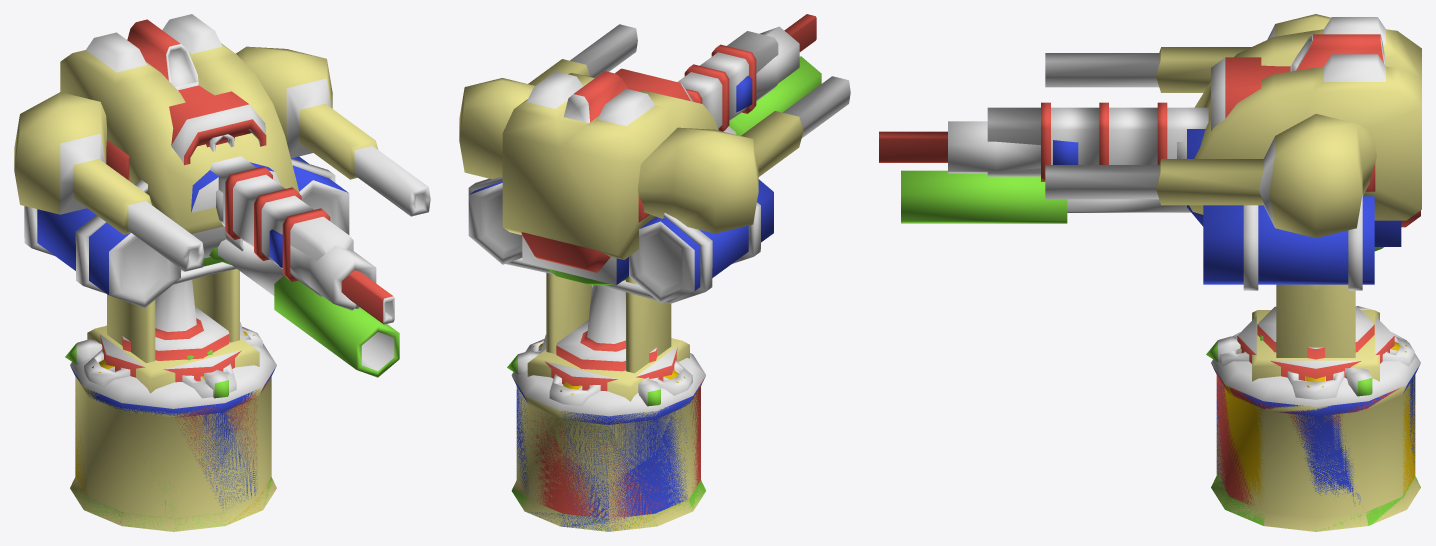
Rendered from GUNS.fbx.
The picture shows the model from 3 angles, left to right: view 1: azimuth 30°, elevation 25°; view 2: azimuth 150°, elevation 25°; view 3: azimuth 270°, elevation 25°; orthographic projection. The views are drawn at different scales.
Visible parts, largest first — view 1: GUN3, platform.003, GUN5, GUN1, GUN2, GUN5.001, platform.001, platform.002, GUN1.001, platform, GUN2.001, platform.004; view 2: GUN3, platform.003, GUN1, platform.001, GUN5, GUN5.001, platform, platform.002, GUN2, GUN1.001, GUN2.001; view 3: GUN3, platform.003, GUN5, GUN1, GUN2, platform.001, platform.002, platform.004, GUN5.001, platform, GUN1.001, GUN2.001.
Boxes of the visible parts, x1,y1,x2,y2 form: GUN3: (14, 14, 430, 393); platform.003: (70, 343, 276, 531); GUN5: (106, 19, 394, 324); GUN1: (24, 134, 376, 310); GUN2: (202, 239, 399, 377); GUN5.001: (100, 279, 246, 382); platform.001: (70, 366, 276, 510); platform.002: (70, 345, 272, 530); GUN1.001: (84, 326, 262, 398); platform: (72, 375, 271, 523); GUN2.001: (65, 339, 228, 398); platform.004: (72, 385, 269, 525); GUN3: (459, 24, 850, 401); platform.003: (513, 358, 702, 531); GUN1: (468, 26, 799, 303); platform.001: (512, 377, 703, 531); GUN5: (521, 14, 816, 272); GUN5.001: (540, 285, 677, 391); platform: (530, 378, 704, 530); platform.002: (511, 353, 705, 531); GUN2: (546, 56, 821, 285); GUN1.001: (525, 339, 692, 406); GUN2.001: (507, 350, 660, 406); GUN3: (1045, 14, 1421, 381); platform.003: (1212, 376, 1420, 531); GUN5: (879, 34, 1420, 227); GUN1: (948, 121, 1401, 290); GUN2: (901, 170, 1383, 251); platform.001: (1212, 365, 1419, 505); platform.002: (1211, 332, 1420, 531); platform.004: (1222, 380, 1419, 505); GUN5.001: (1237, 306, 1394, 380); platform: (1213, 368, 1413, 505); GUN1.001: (1220, 336, 1414, 399); GUN2.001: (1206, 306, 1372, 396).
Size of the model in its own units: 355 by 473 by 517.
